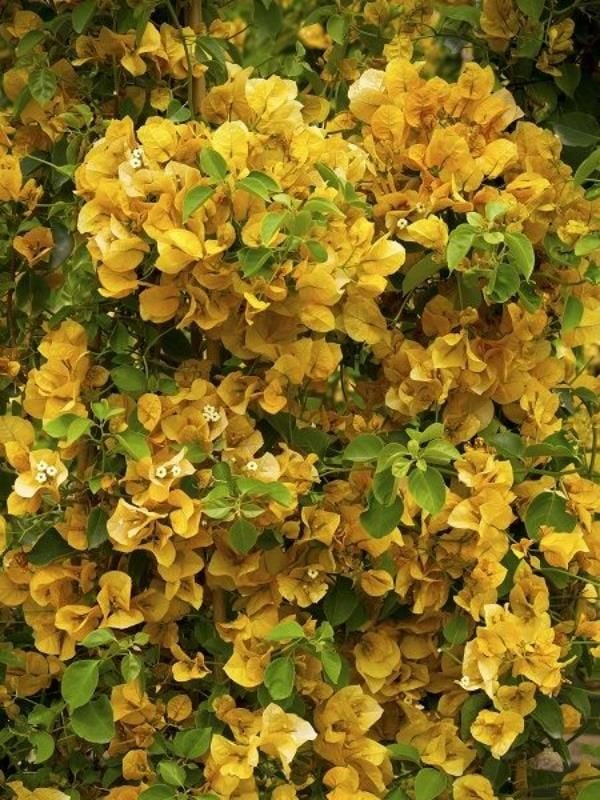rose: (389, 339, 596, 758), (87, 69, 402, 343), (107, 378, 356, 599), (407, 63, 577, 290), (14, 422, 83, 524)
